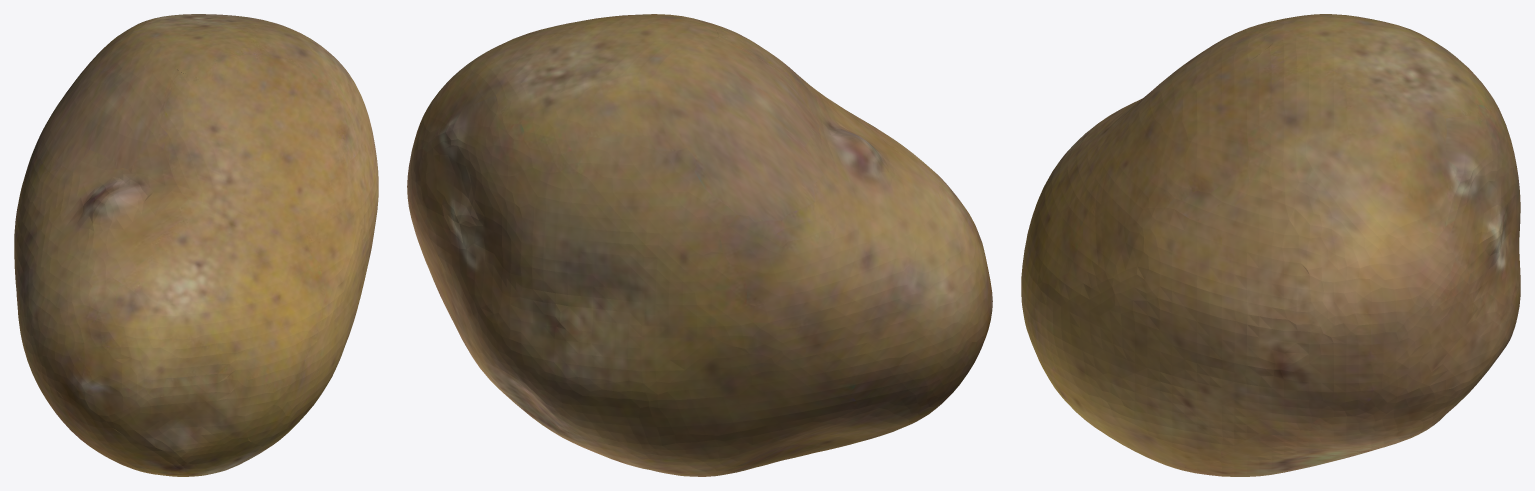
Rendered from potatoPaperScan2.obj.
3 renders of one model, left to right at view 1: azimuth 30°, elevation 25°; view 2: azimuth 150°, elevation 25°; view 3: azimuth 270°, elevation 25°, orthographic. The views are drawn at different scales.
Parts seen in each view (by area): view 1: potatoPaperScan2; view 2: potatoPaperScan2; view 3: potatoPaperScan2.
Part boxes in pixels (x1,y1,x2,y2): potatoPaperScan2: (14, 14, 378, 476); potatoPaperScan2: (407, 14, 992, 476); potatoPaperScan2: (1021, 14, 1520, 476).
Bounding box in the file's own units: 60.9 × 55.98 × 56.23.
